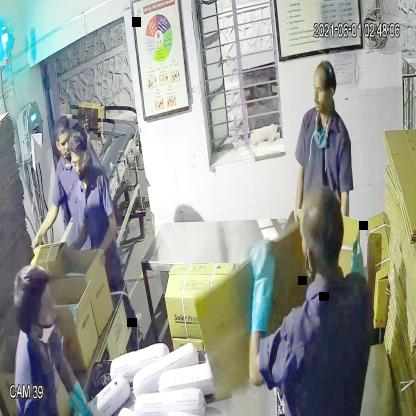goggles: (70, 154, 88, 172)
no_goggles: (310, 81, 338, 101)
